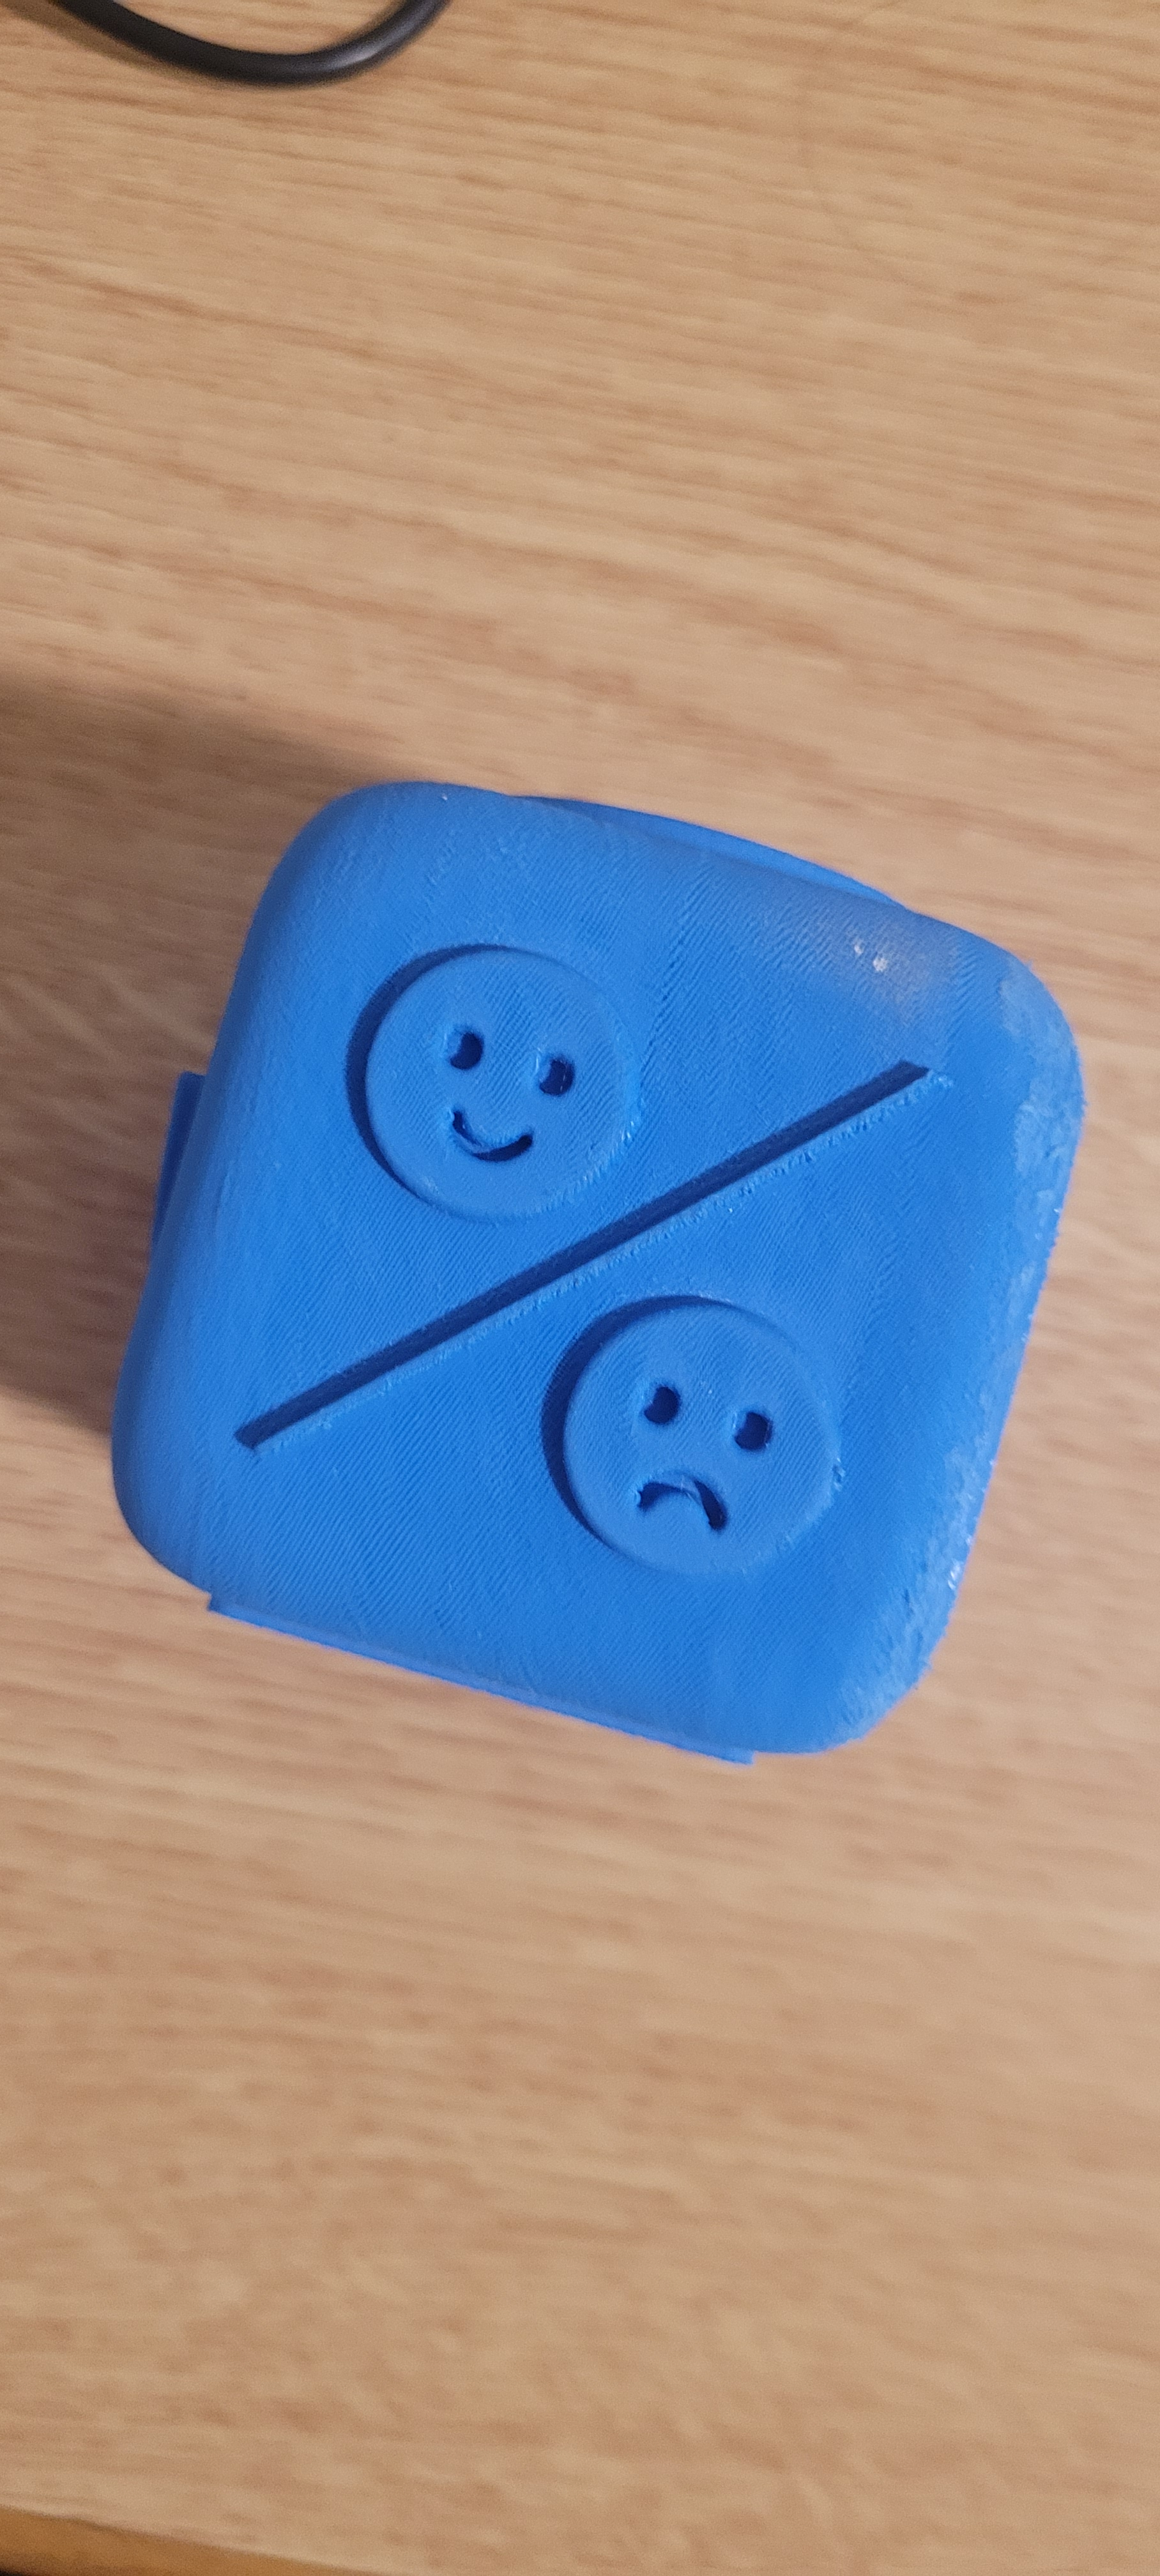Like/Dislike: (184, 729, 976, 1699)
